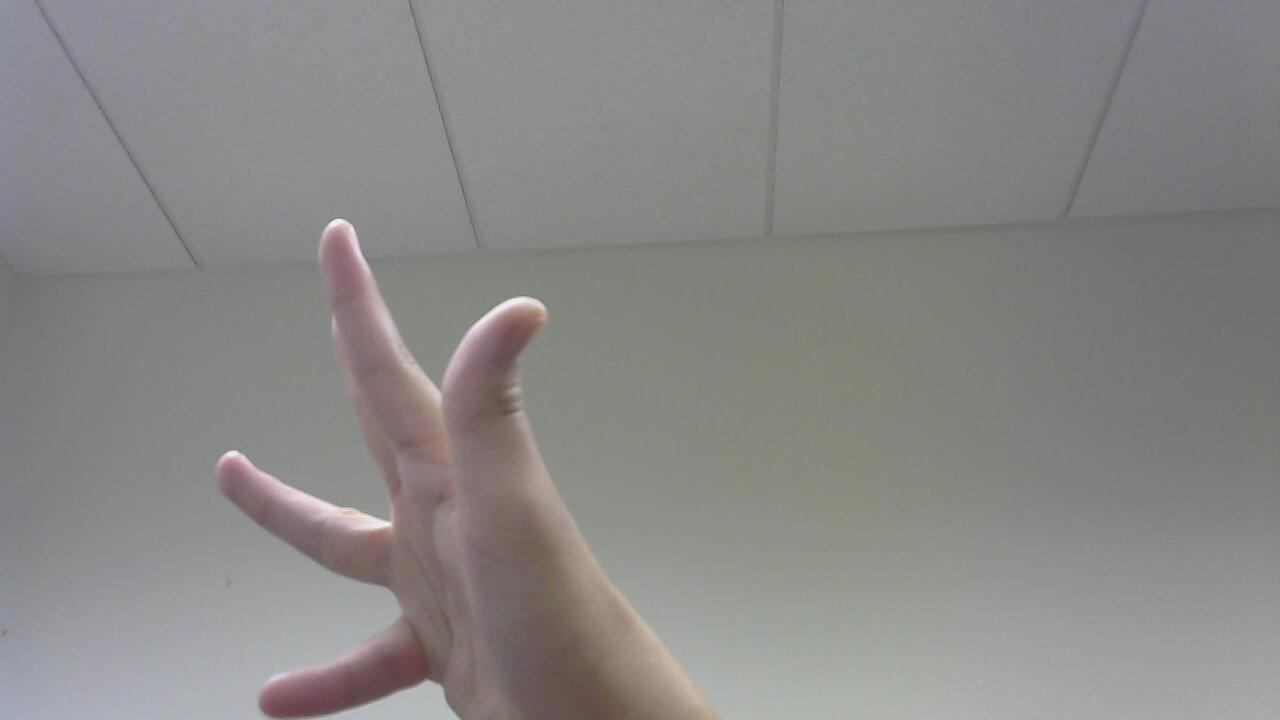hands: (199, 200, 697, 720)
